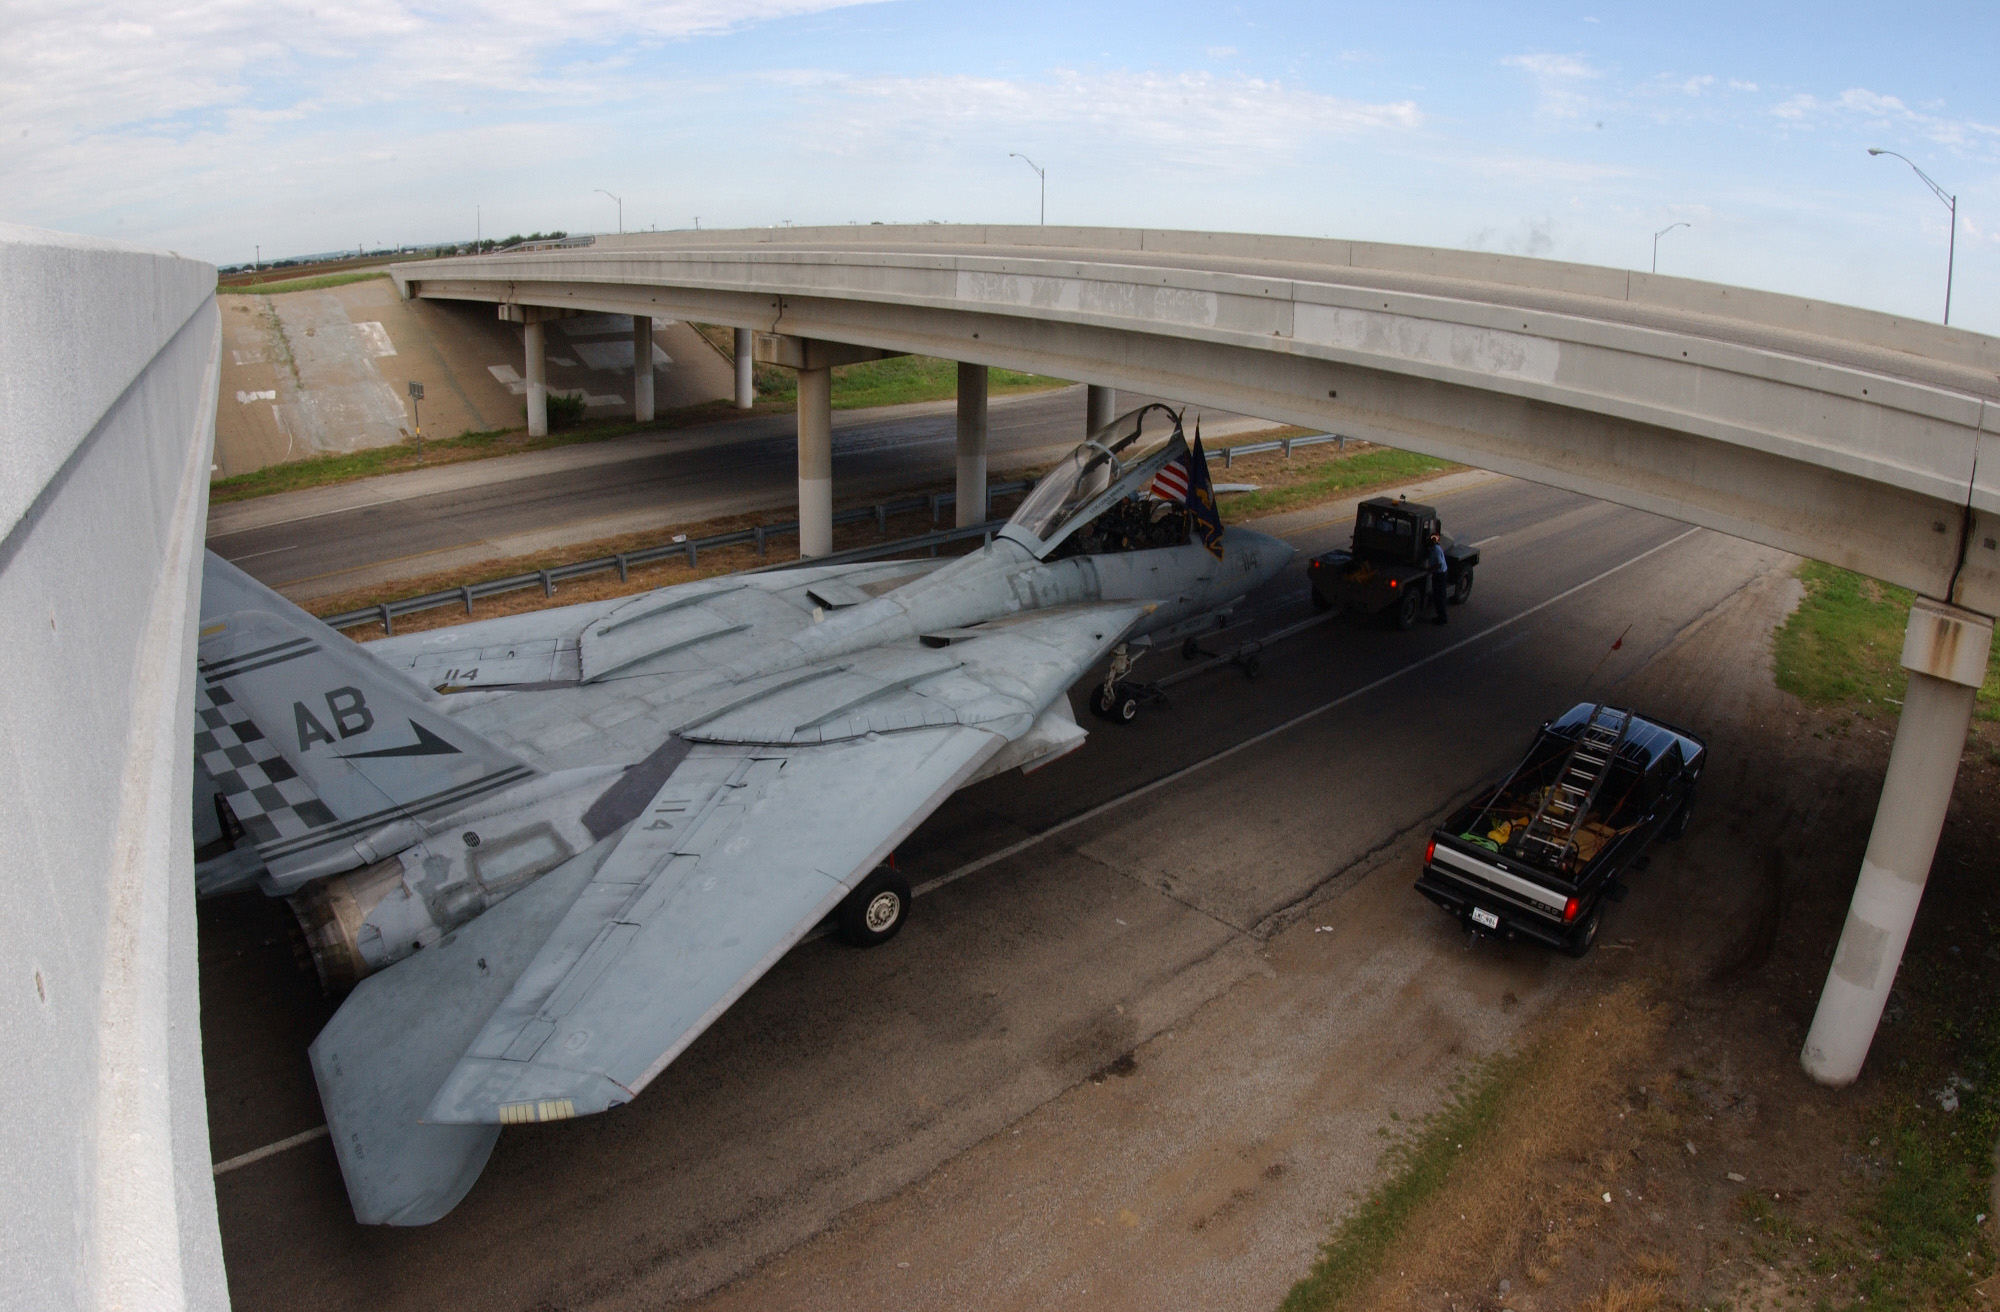airplane: (193, 403, 1302, 1227)
